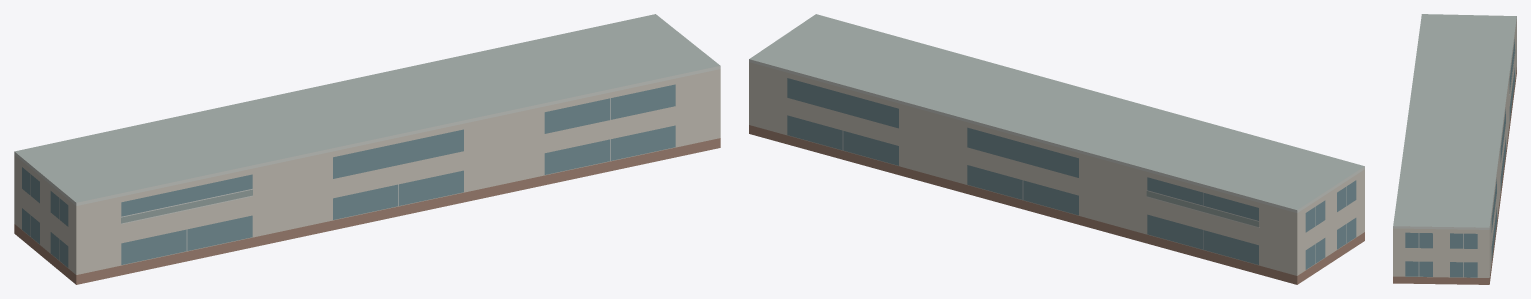
Rendered from survey-upis-32938467.glb.
3 views of the same model, side by side, from view 1: azimuth 30°, elevation 25°; view 2: azimuth 150°, elevation 25°; view 3: azimuth 270°, elevation 25° (orthographic). The views are drawn at different scales.
Visible parts, largest first — view 1: survey-upis-32938467.tmp; view 2: survey-upis-32938467.tmp; view 3: survey-upis-32938467.tmp.
Boxes of the visible parts, x1=… form: survey-upis-32938467.tmp: x1=14, y1=14, x2=720, y2=284; survey-upis-32938467.tmp: x1=749, y1=14, x2=1364, y2=284; survey-upis-32938467.tmp: x1=1393, y1=14, x2=1516, y2=284.
Size of the model in its own units: 48.83 by 6.1 by 11.96.
